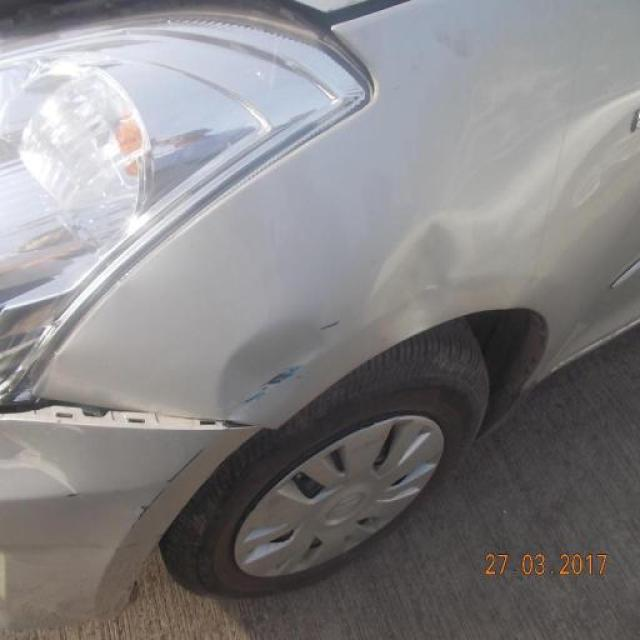dent: (215, 310, 356, 435), (372, 217, 465, 342)
misalignment: (0, 394, 256, 443)
scratch: (118, 447, 215, 554), (234, 350, 324, 417), (316, 316, 342, 333)
